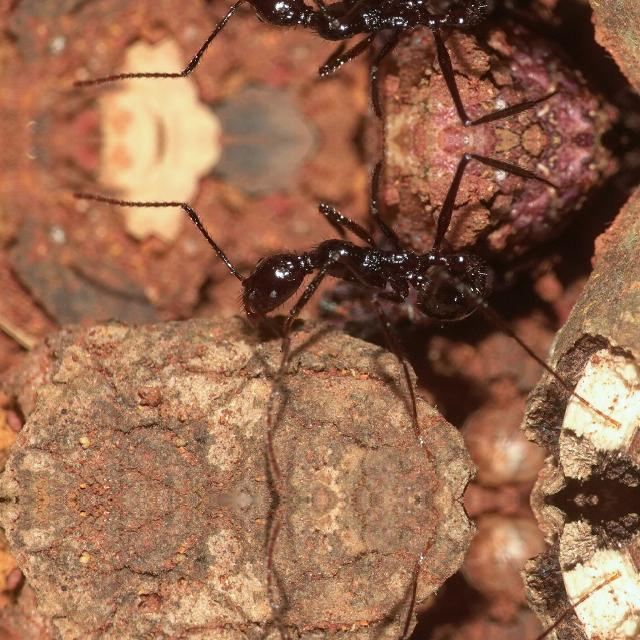Apheanogaster: (188, 200, 530, 340), (188, 0, 530, 76)
